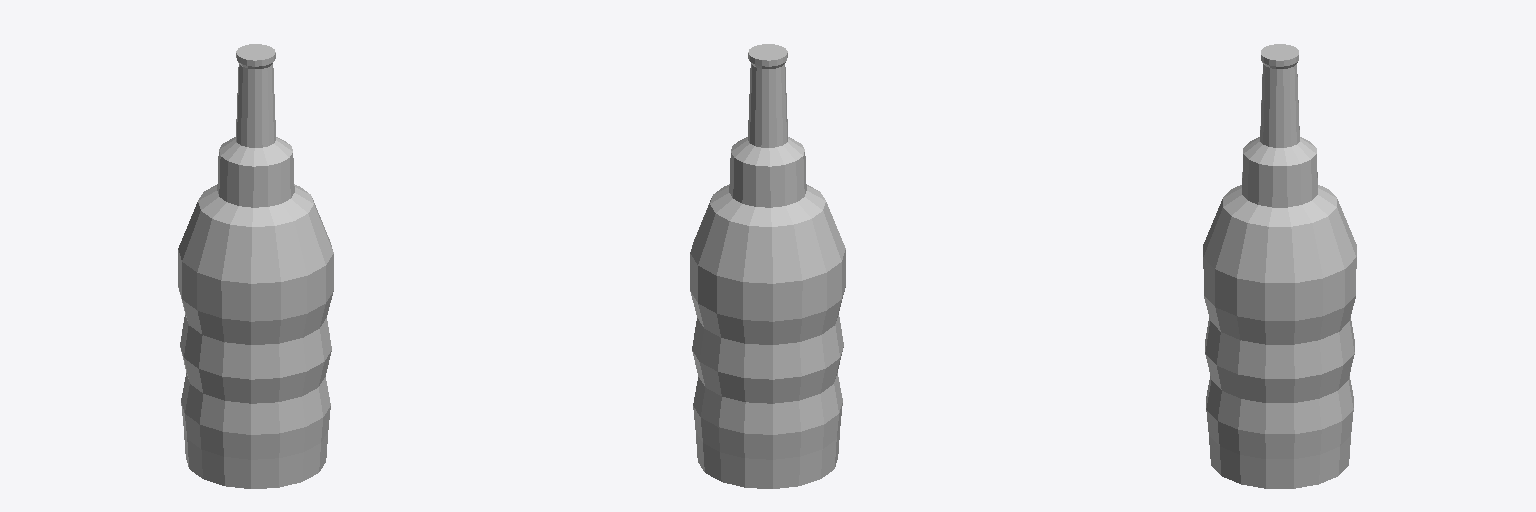
File: bottle_liquor_low.obj
3 views of the same model, side by side, from view 1: azimuth 30°, elevation 25°; view 2: azimuth 150°, elevation 25°; view 3: azimuth 270°, elevation 25° (orthographic).
Parts seen in each view (by area): view 1: Circle_Circle.001; view 2: Circle_Circle.001; view 3: Circle_Circle.001.
Part boxes in pixels (bbox=[...]): Circle_Circle.001: bbox=[178, 44, 333, 488]; Circle_Circle.001: bbox=[690, 44, 845, 488]; Circle_Circle.001: bbox=[1203, 44, 1356, 488].
Size of the model in its own units: 3.49 by 10.26 by 3.49.